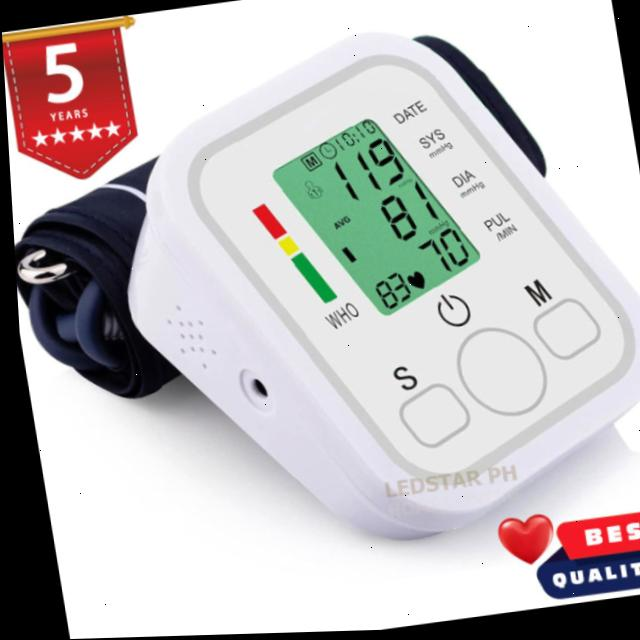dia: (367, 175, 441, 250)
pul: (406, 219, 474, 286)
ssd: (265, 105, 480, 332)
sys: (323, 129, 409, 209)
